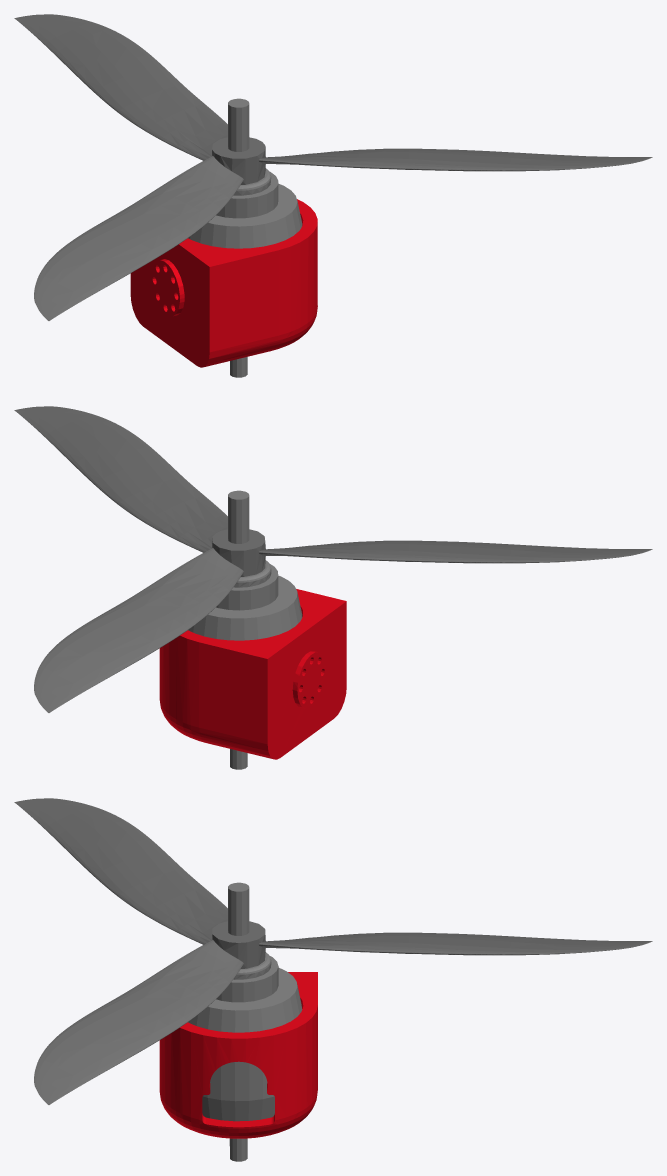
File: rotor_module.dae
The picture shows the model from 3 angles, top to bottom: view 1: azimuth 30°, elevation 25°; view 2: azimuth 150°, elevation 25°; view 3: azimuth 270°, elevation 25°; orthographic projection.
Visible parts, largest first — view 1: rotor_module - 9inch_prop.step-1, rotor_module - motor_case-1, rotor_module - AT2814-1; view 2: rotor_module - 9inch_prop.step-1, rotor_module - motor_case-1, rotor_module - AT2814-1; view 3: rotor_module - 9inch_prop.step-1, rotor_module - motor_case-1, rotor_module - AT2814-1.
Part boxes in pixels (x1,y1,x2,y2): rotor_module - 9inch_prop.step-1: (14,14,652,320); rotor_module - motor_case-1: (130,199,317,367); rotor_module - AT2814-1: (188,98,302,377); rotor_module - 9inch_prop.step-1: (14,406,652,712); rotor_module - motor_case-1: (159,589,346,759); rotor_module - AT2814-1: (188,490,302,769); rotor_module - 9inch_prop.step-1: (14,798,652,1104); rotor_module - motor_case-1: (159,972,317,1138); rotor_module - AT2814-1: (188,882,302,1161).
Size of the model in its own units: 0.1983 by 0.1765 by 0.0825.
